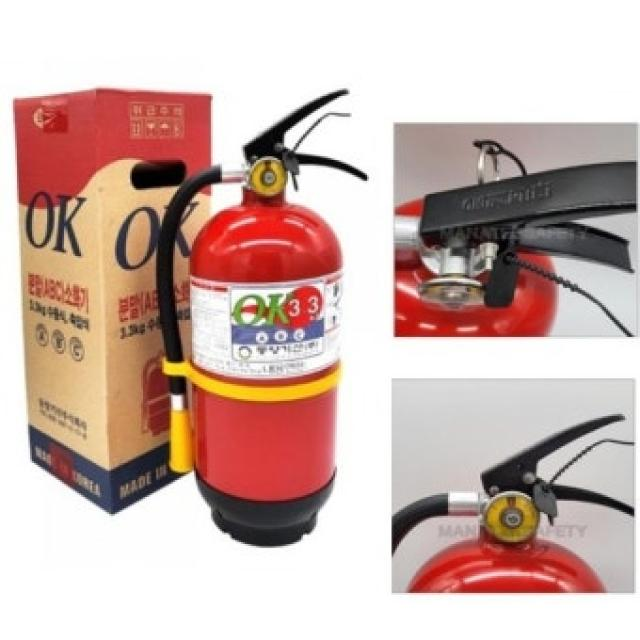pressure gauge: (484, 492, 540, 543), (422, 275, 485, 314), (249, 157, 287, 197)
